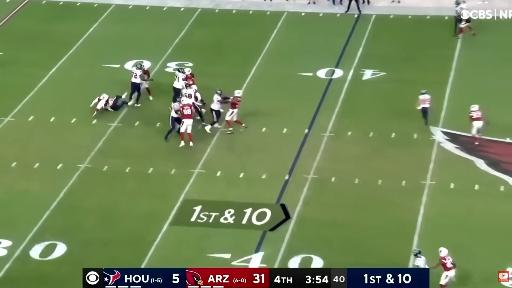Helmet: (439, 247, 448, 257), (179, 96, 188, 105), (99, 93, 109, 100), (413, 249, 421, 257), (172, 103, 179, 111), (234, 90, 242, 96), (187, 79, 194, 85), (136, 63, 143, 69), (216, 89, 223, 95), (184, 68, 191, 74), (471, 105, 479, 110), (185, 82, 191, 88), (177, 68, 184, 73), (421, 90, 427, 94)
Jersey: (440, 256, 454, 271), (182, 88, 196, 103), (181, 104, 194, 119), (211, 94, 222, 110), (469, 110, 483, 122), (174, 72, 184, 88), (414, 256, 428, 267), (131, 69, 142, 82), (230, 97, 241, 109), (419, 95, 430, 107), (185, 74, 194, 84), (171, 108, 180, 118), (106, 99, 114, 110), (143, 68, 150, 78), (98, 98, 106, 103)
Player: (205, 89, 228, 132), (226, 90, 246, 133), (186, 78, 205, 123), (91, 94, 127, 116), (435, 248, 455, 287), (165, 103, 181, 141), (129, 63, 143, 106), (180, 103, 193, 146), (469, 105, 483, 144), (416, 90, 431, 126), (173, 68, 185, 102), (458, 17, 475, 37), (181, 83, 197, 103), (413, 249, 428, 267), (142, 80, 152, 99), (184, 68, 194, 84)
